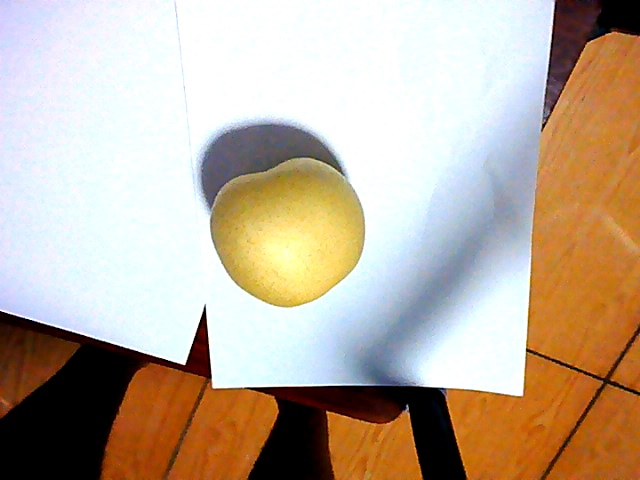pear: (211, 160, 366, 308)
